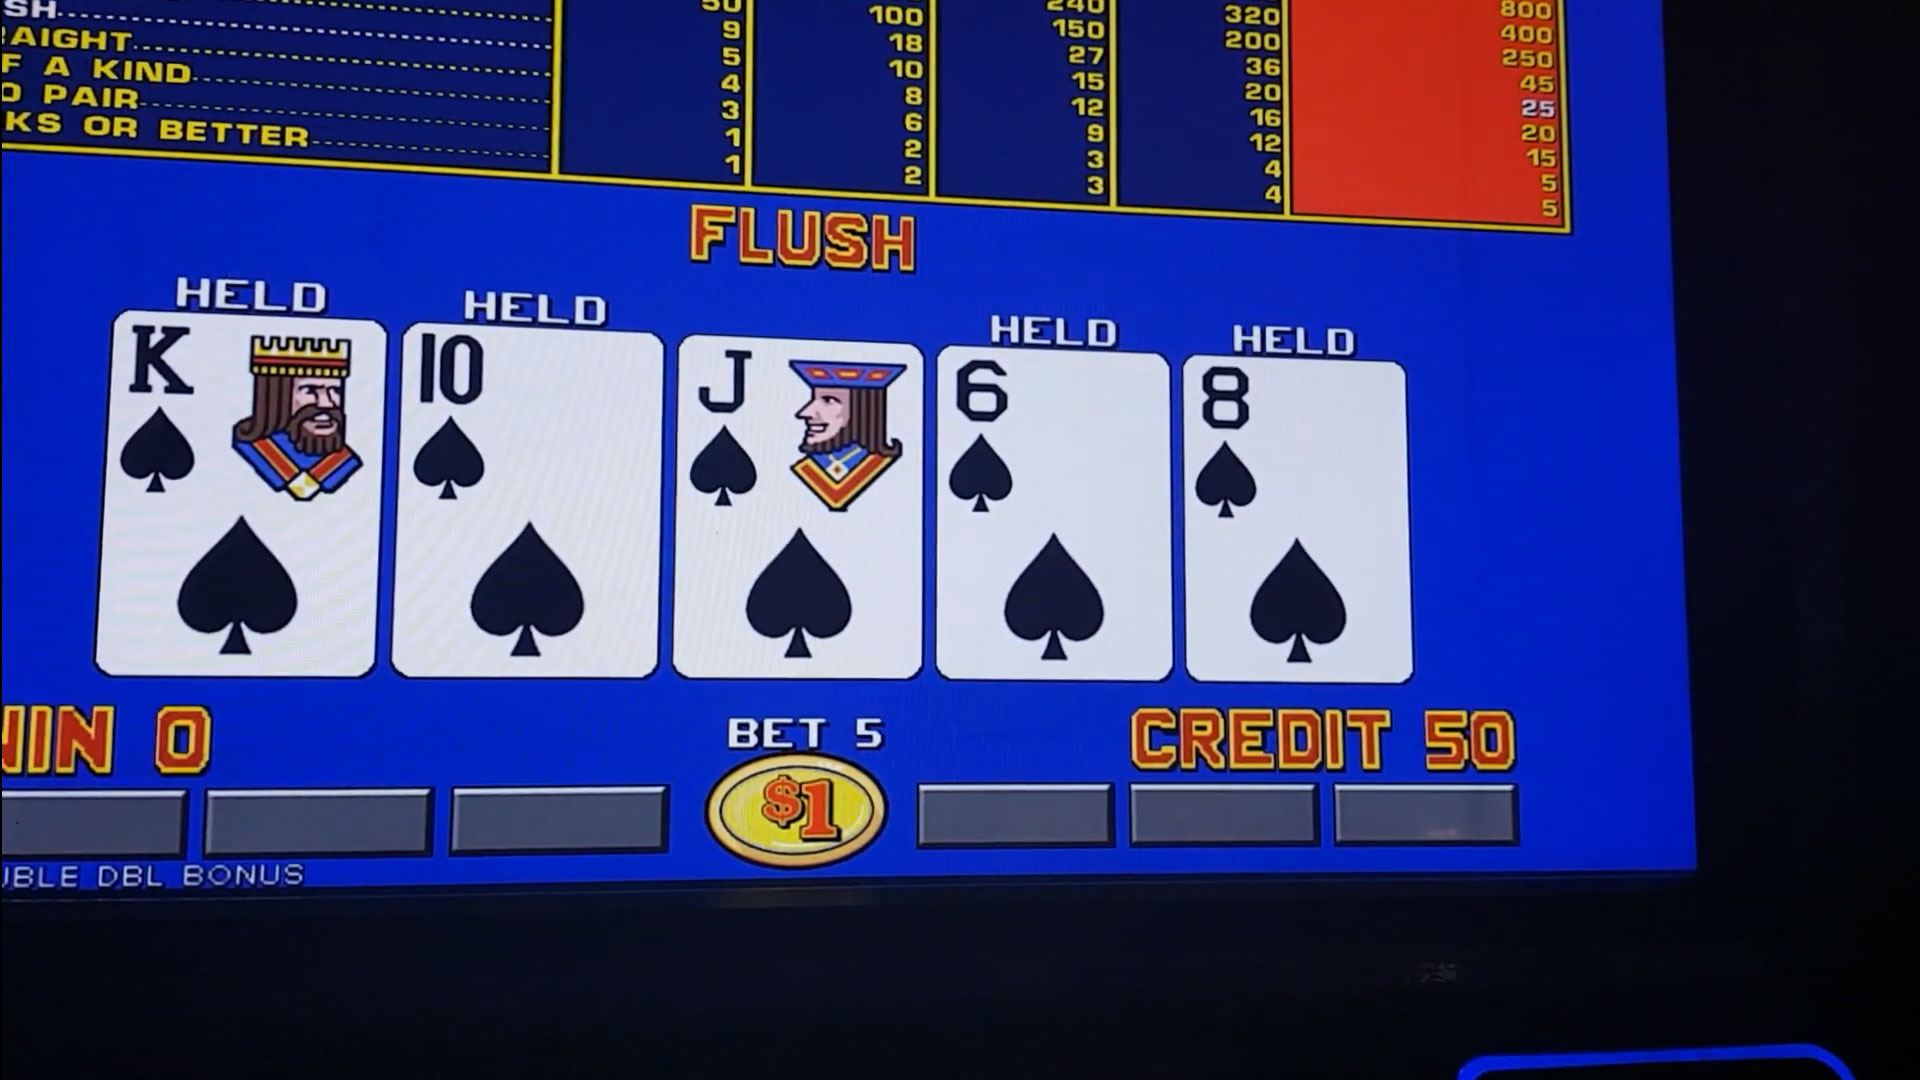S6: (945, 357, 1168, 520)
S8: (1189, 365, 1399, 525)
SJ: (684, 345, 916, 514)
SK: (120, 319, 378, 498)
ST: (406, 334, 658, 512)
